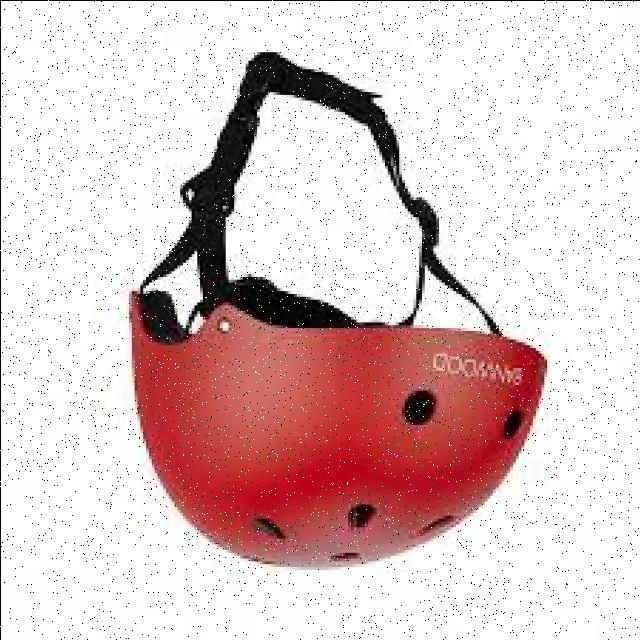Helmet: (117, 267, 570, 585)
